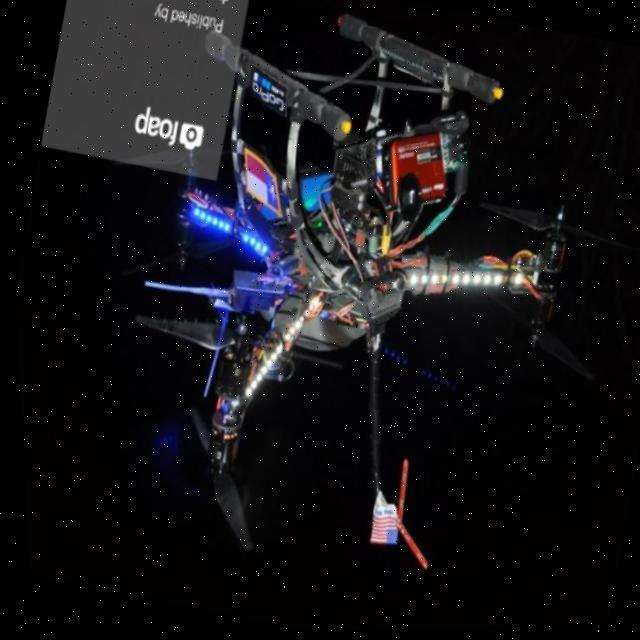drones: (55, 0, 640, 637)
